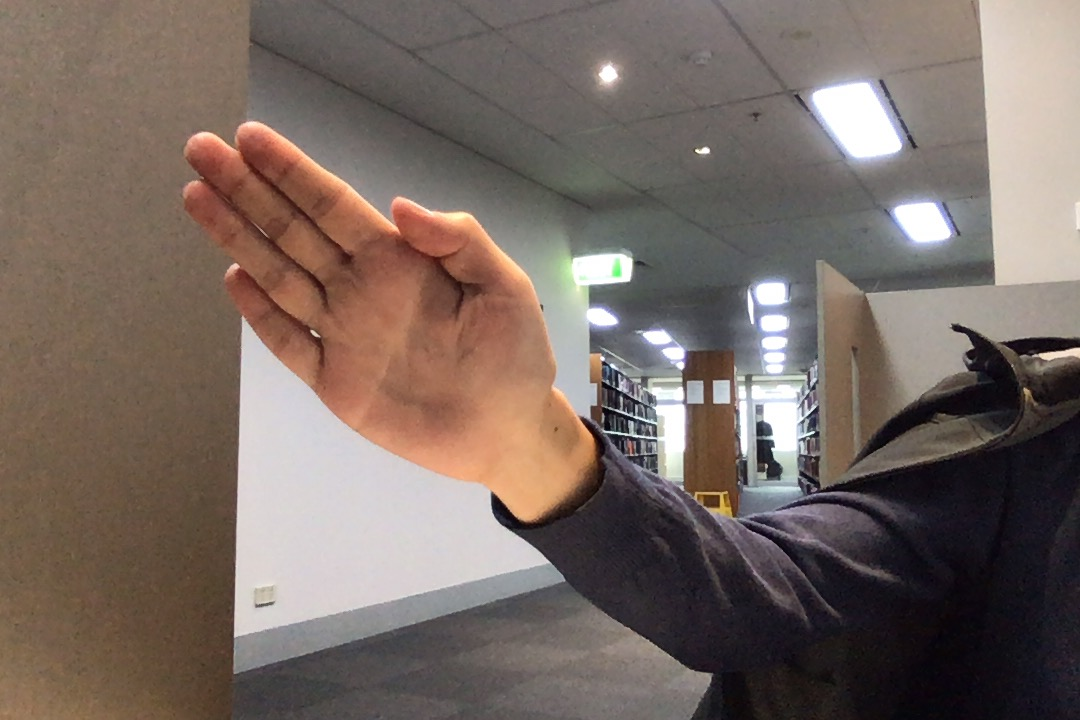palmhand: (157, 106, 565, 487)
